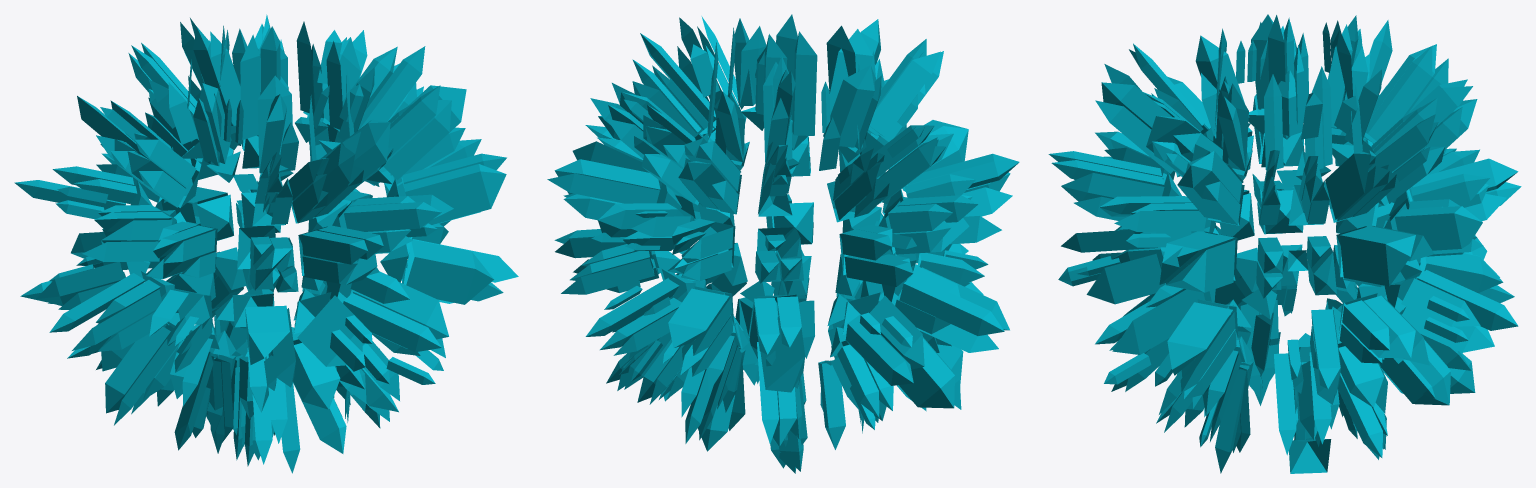
File: crystal_core_part2.FBX
The picture shows the model from 3 angles, left to right: view 1: azimuth 30°, elevation 25°; view 2: azimuth 150°, elevation 25°; view 3: azimuth 270°, elevation 25°; orthographic projection. The views are drawn at different scales.
Parts seen in each view (by area): view 1: Sphere002; view 2: Sphere002; view 3: Sphere002.
Part boxes in pixels (x1,y1,x2,y2): Sphere002: (14, 14, 518, 473); Sphere002: (547, 14, 1019, 473); Sphere002: (1048, 14, 1521, 473).
Bounding box in the file's own units: 284 × 261 × 282.
